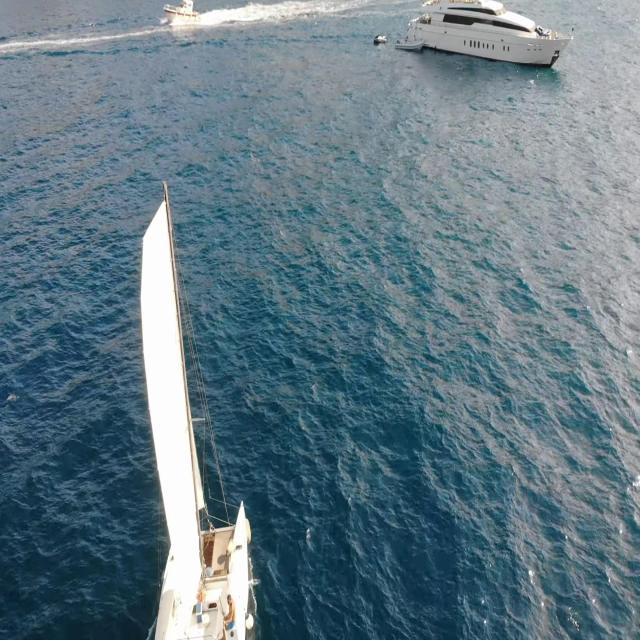boat: (407, 0, 571, 68), (161, 0, 201, 29), (396, 31, 422, 56), (374, 31, 388, 50)
